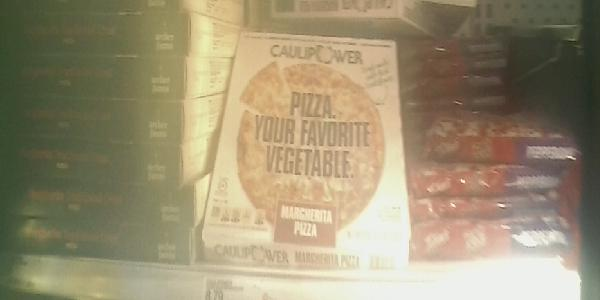pizza1: (197, 30, 409, 264)
pizza2: (2, 53, 186, 102), (2, 220, 192, 265), (5, 101, 186, 148), (3, 12, 189, 55), (1, 186, 196, 224), (3, 146, 181, 186)
